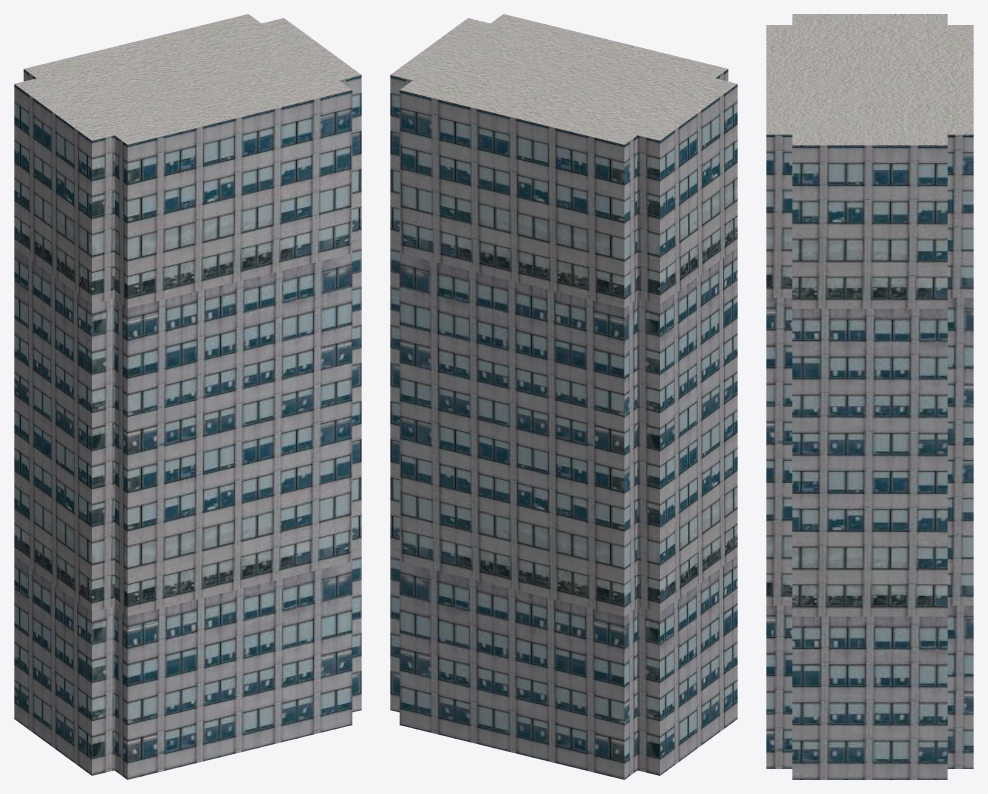
Rendered from building_17.glb.
3 views of the same model, side by side, from view 1: azimuth 30°, elevation 25°; view 2: azimuth 150°, elevation 25°; view 3: azimuth 270°, elevation 25° (orthographic).
Parts seen in each view (by area): view 1: building_025; view 2: building_025; view 3: building_025.
Part boxes in pixels (x1=…): building_025: x1=14, y1=14, x2=361, y2=779; building_025: x1=390, y1=14, x2=737, y2=779; building_025: x1=766, y1=14, x2=973, y2=779.
Bounding box in the file's own units: 251 × 565 × 167.
Materials: 2 (2 with a texture image).
